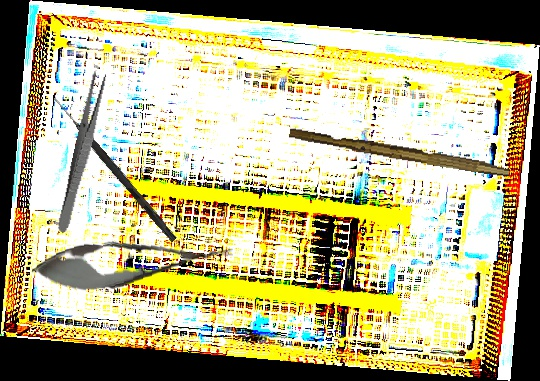Dressing Forceps: (55, 69, 109, 235)
Hook Surgical: (50, 96, 179, 243)
Micro Scissor: (29, 227, 236, 297)
Scalpel Handle: (288, 126, 511, 178)
